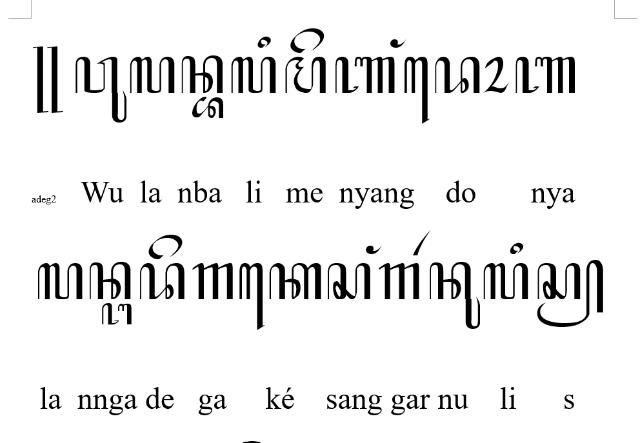-s: (536, 259, 604, 327)
_b: (192, 96, 224, 119)
_r1: (413, 230, 431, 256)
adeg2: (32, 46, 64, 112)
d: (434, 56, 480, 94), (139, 262, 185, 300)
e: (290, 28, 324, 54), (149, 234, 183, 260)
e1: (404, 56, 430, 124), (239, 263, 265, 331)
g: (192, 262, 234, 300), (378, 263, 419, 301)
i: (509, 242, 523, 256), (257, 36, 271, 48)
k: (268, 262, 322, 300)
l: (230, 56, 276, 94), (130, 56, 174, 94), (38, 262, 82, 300), (484, 262, 528, 300)
m: (285, 56, 327, 94)
n: (180, 55, 223, 94), (89, 262, 131, 300)
ng: (390, 39, 408, 49), (366, 246, 382, 254)
nga: (101, 302, 132, 326)
nu: (429, 263, 481, 330)
ny1: (334, 56, 396, 94), (515, 56, 577, 94)
o: (483, 56, 509, 94)
s: (328, 262, 370, 300)
wu: (74, 56, 128, 122)
